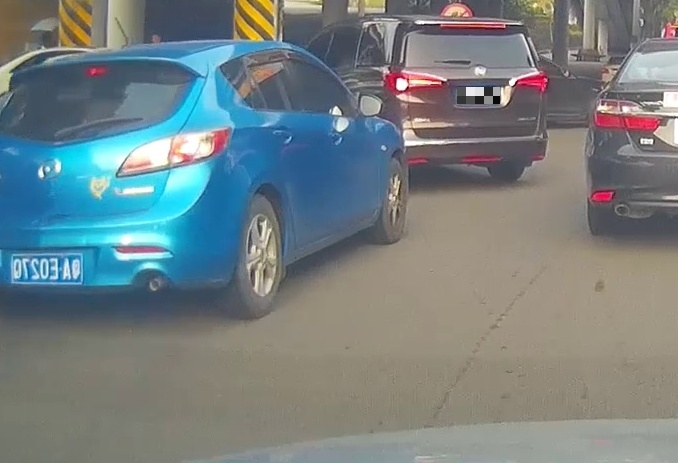L_light: (383, 69, 446, 95)
R_light: (509, 70, 548, 92)
T_light: (439, 22, 505, 28)
day-brake: (382, 15, 548, 182)
plate_1: (457, 87, 500, 104)
